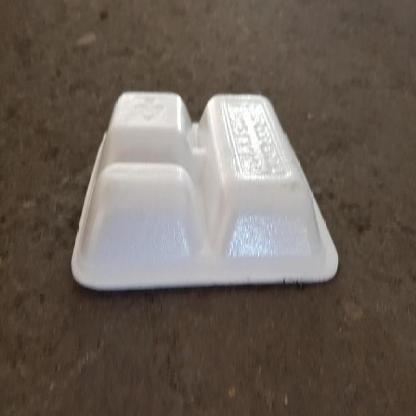Glass Cup: (71, 90, 339, 290), (71, 91, 339, 289)
